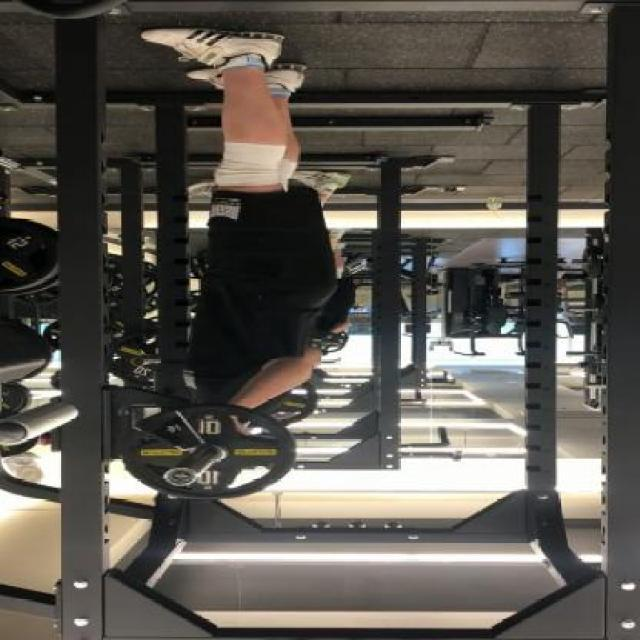Barbell: (161, 463, 201, 489)
